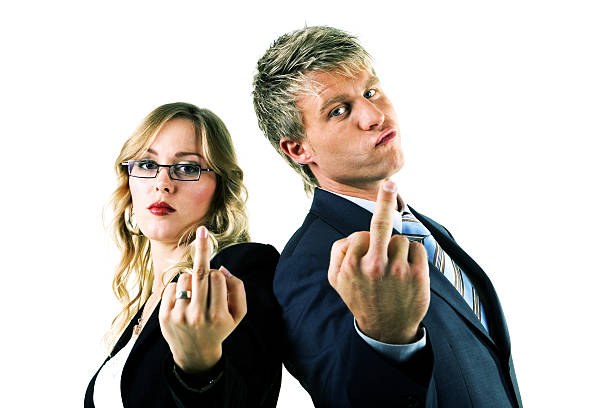insulting_gesture: (328, 177, 432, 329), (159, 223, 246, 365)
